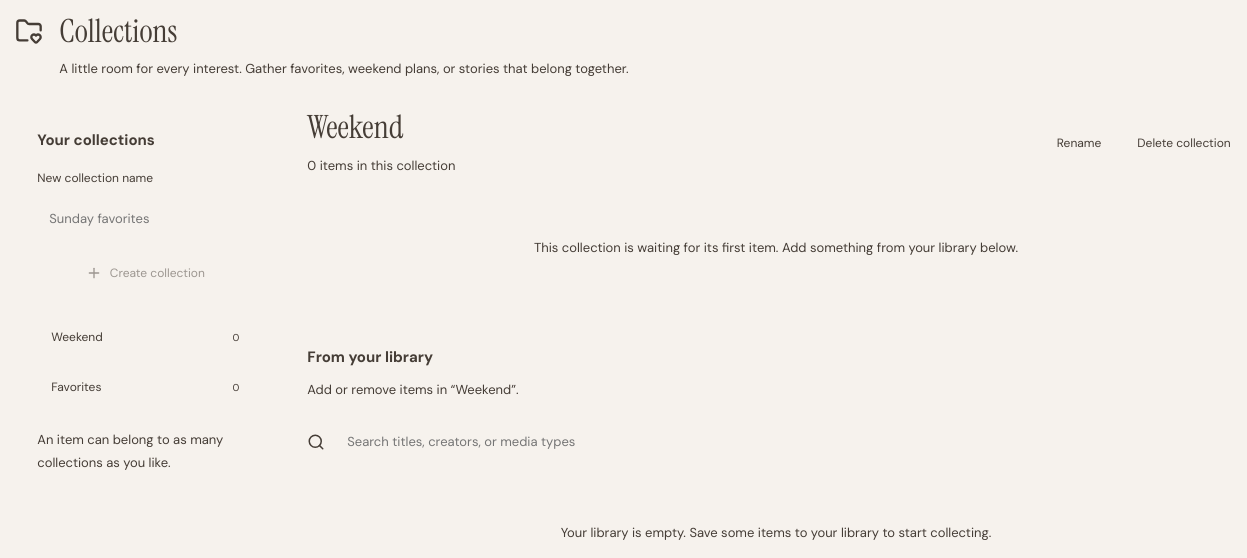
Test: selects named collections and explains an empty library
The width and height of the screenshot is (1247, 558).
What coordinates should you click on to do the following:
click the button "Favorites 0"
I would click on:
 (145, 388)
Its box is x1=37 y1=366 x2=253 y2=410.
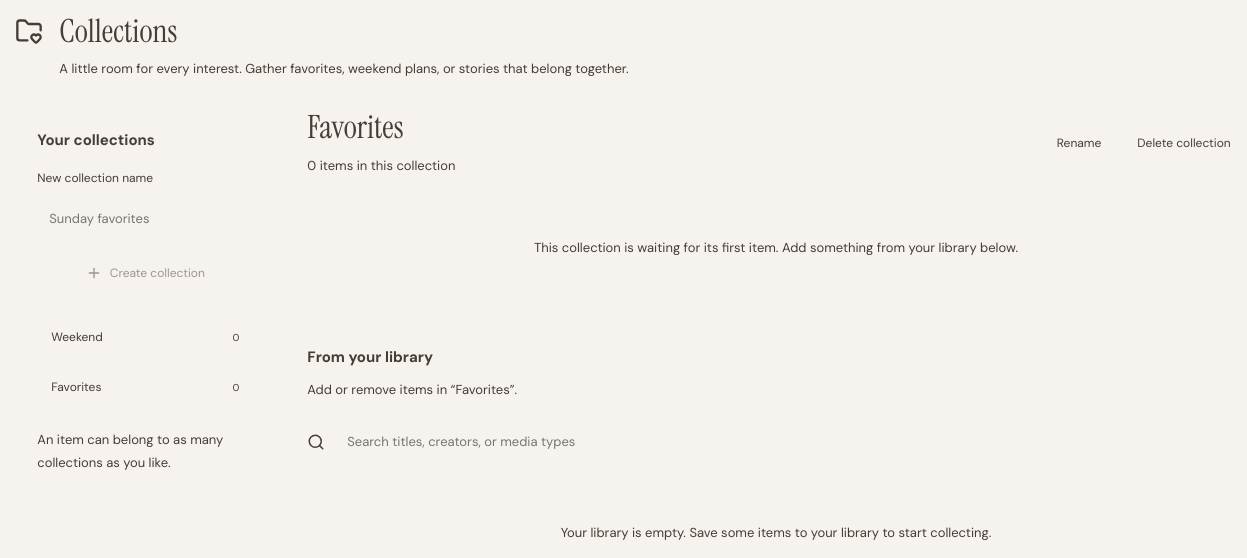
Check: the text "Your library is empty. Save some items to your library to start collecting." is shown, box x1=561 y1=524 x2=991 y2=541
Check: the heading "Favorites" is shown, box x1=307 y1=106 x2=404 y2=148
